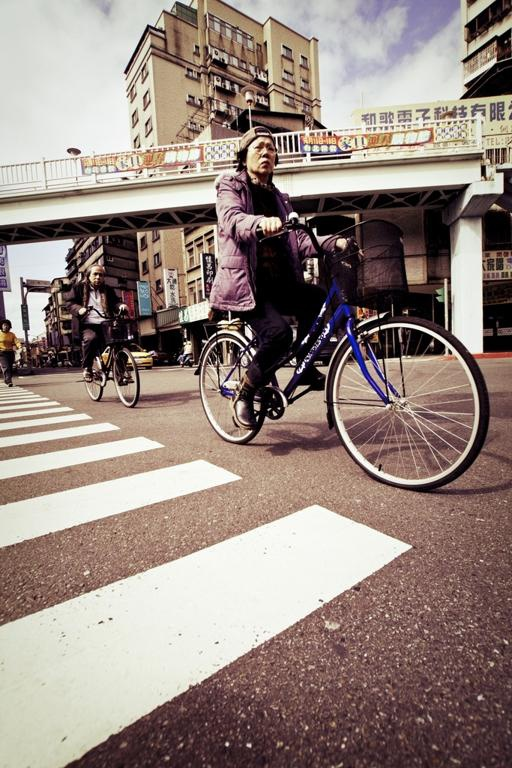non-vehicle: (195, 209, 491, 492), (78, 304, 143, 409)
